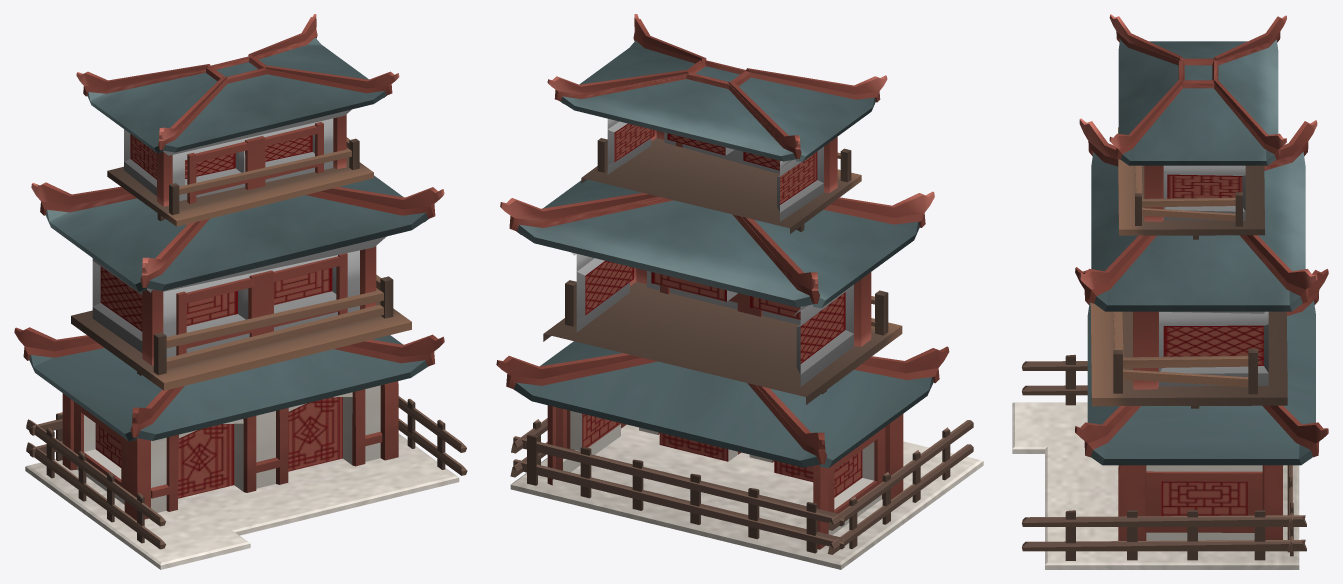
File: camp_3lvl.fbx
The picture shows the model from 3 angles, left to right: view 1: azimuth 30°, elevation 25°; view 2: azimuth 150°, elevation 25°; view 3: azimuth 270°, elevation 25°; orthographic projection. The views are drawn at different scales.
Parts seen in each view (by area): view 1: camp_3lvl; view 2: camp_3lvl; view 3: camp_3lvl.
Boxes of the visible parts, x1,y1,x2,y2 form: camp_3lvl: (14,14,467,569); camp_3lvl: (496,14,983,569); camp_3lvl: (1012,14,1328,569).
Bounding box in the file's own units: 6.04 × 7.3 × 4.94.
